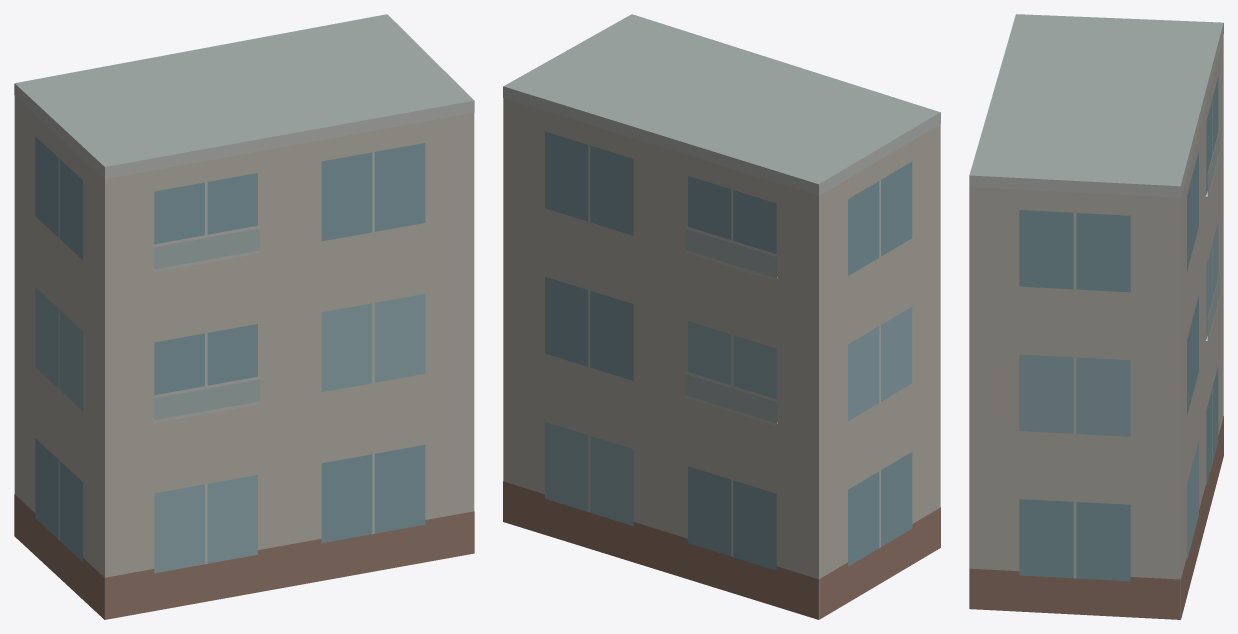
Rendered from survey-upis-32698166.glb.
The picture shows the model from 3 angles, left to right: view 1: azimuth 30°, elevation 25°; view 2: azimuth 150°, elevation 25°; view 3: azimuth 270°, elevation 25°; orthographic projection. The views are drawn at different scales.
Parts seen in each view (by area): view 1: survey-upis-32698166.tmp; view 2: survey-upis-32698166.tmp; view 3: survey-upis-32698166.tmp.
Boxes of the visible parts, x1,y1,x2,y2 form: survey-upis-32698166.tmp: (14, 14, 474, 619); survey-upis-32698166.tmp: (503, 14, 940, 619); survey-upis-32698166.tmp: (969, 14, 1223, 619).
Size of the model in its own units: 7.81 by 9.15 by 4.87.
